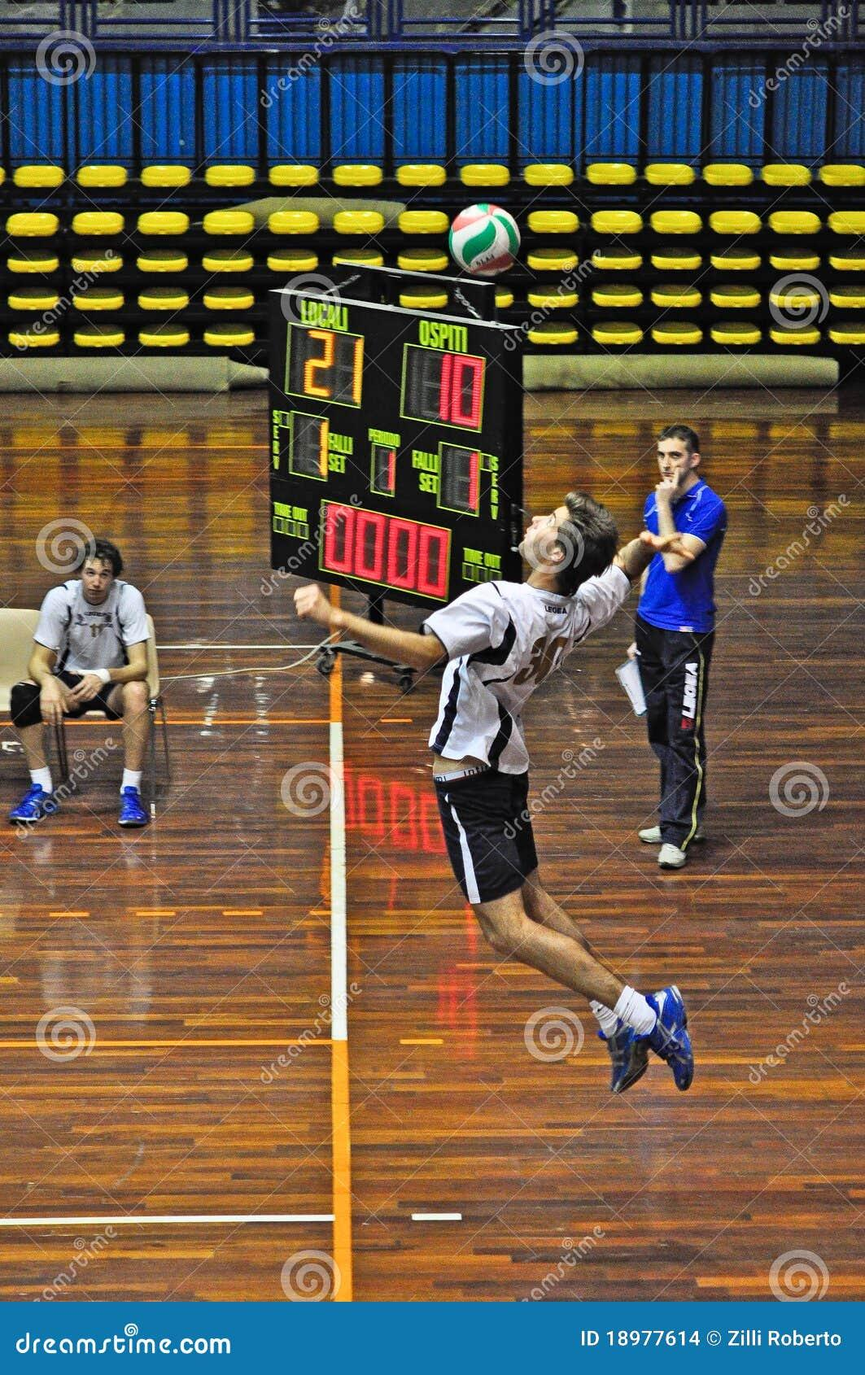ballon_volley: (446, 201, 523, 279)
